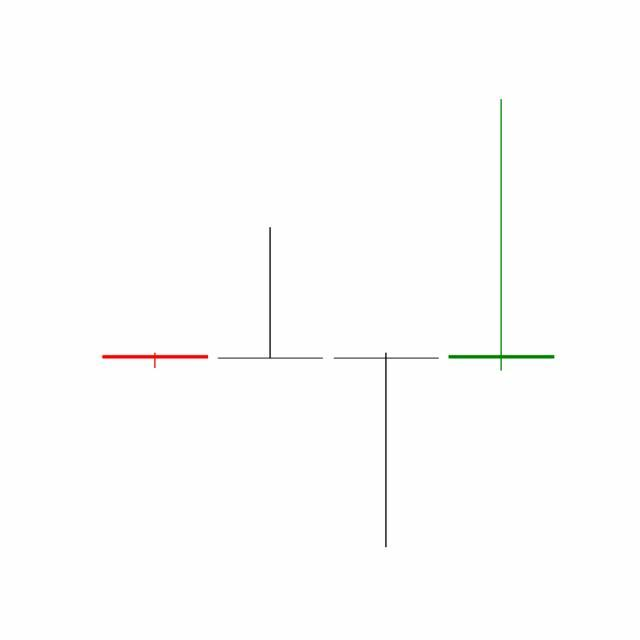Gravestone Doji: (444, 97, 560, 375)
